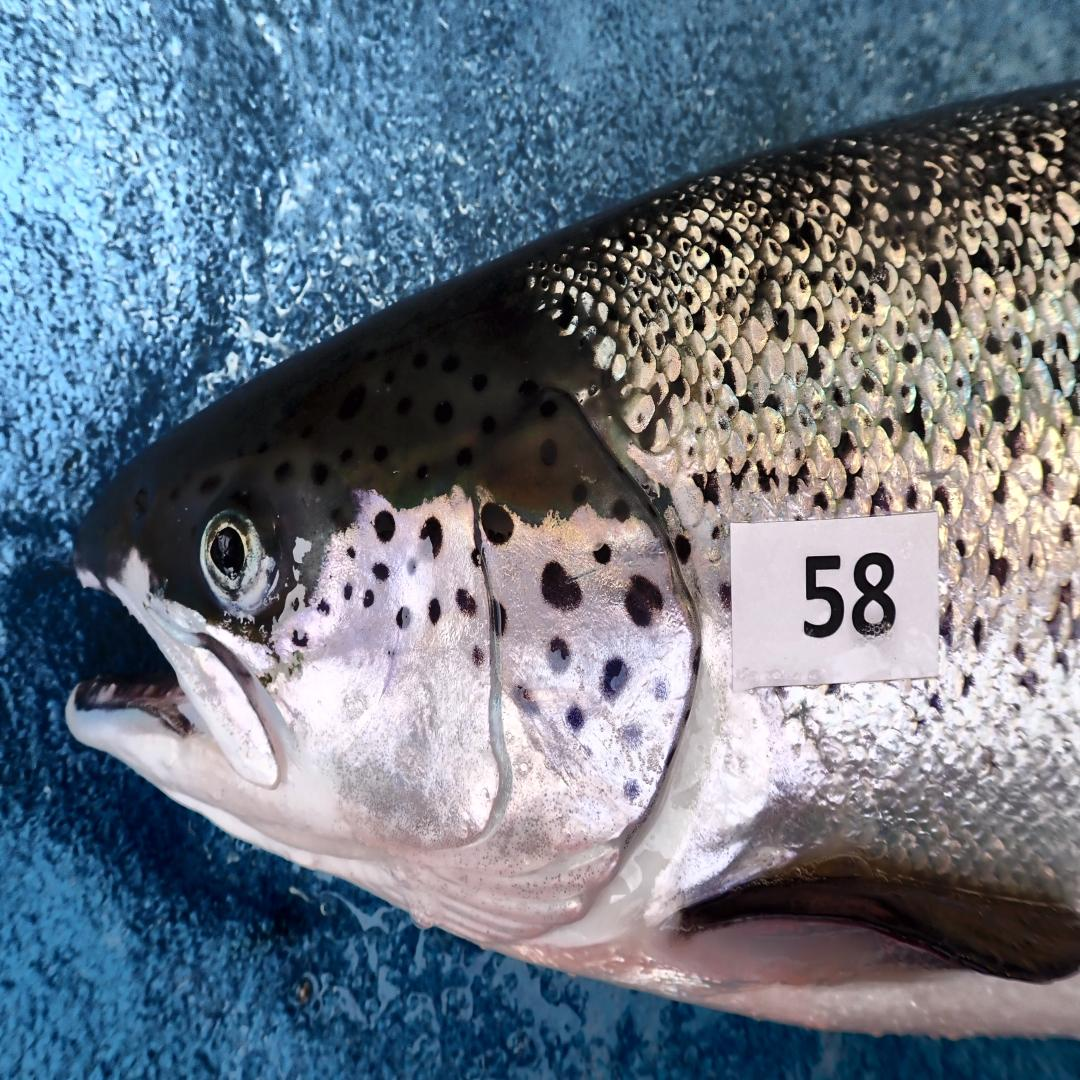spot: (541, 561, 582, 610), (624, 575, 663, 626), (481, 503, 514, 545), (601, 656, 628, 698), (419, 516, 443, 560), (548, 638, 571, 675), (513, 684, 539, 715), (454, 587, 477, 618), (374, 510, 395, 542), (490, 597, 506, 638), (622, 723, 643, 747), (566, 705, 585, 730), (593, 542, 611, 565), (653, 676, 669, 701), (624, 779, 640, 804), (428, 598, 441, 624), (396, 607, 411, 628), (372, 563, 389, 580), (292, 630, 308, 647), (472, 646, 484, 667), (470, 549, 483, 568), (317, 599, 330, 615), (363, 589, 374, 607), (406, 559, 416, 575), (344, 583, 352, 600), (347, 546, 355, 558)
